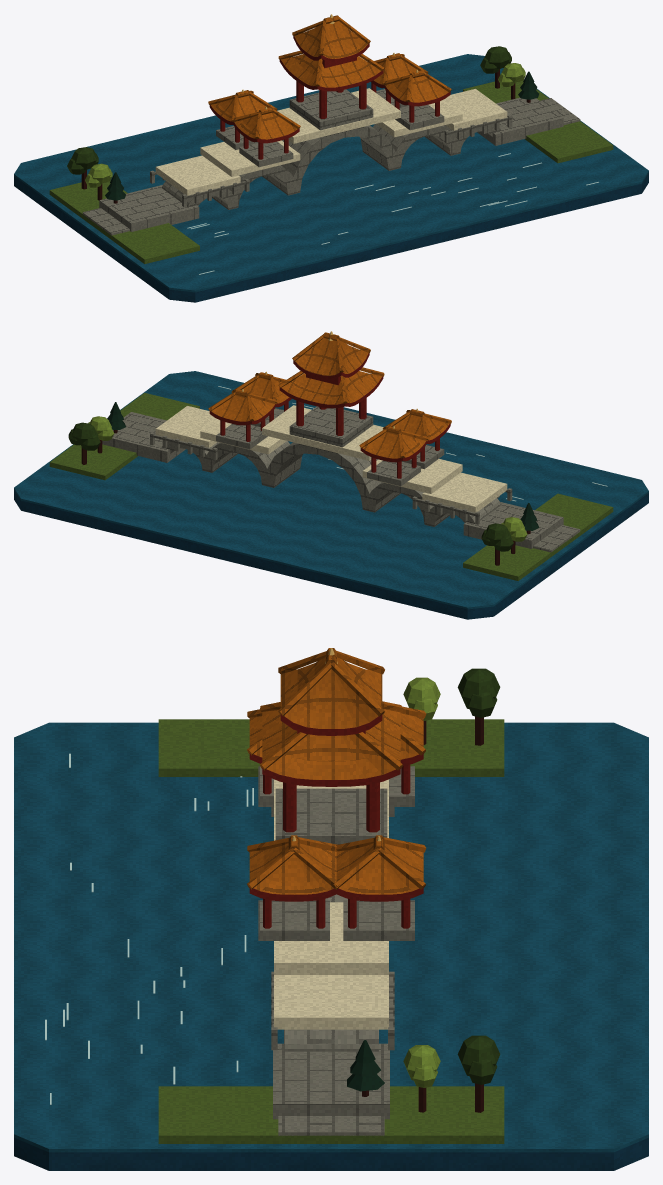
File: slender-west-lake.glb
3 renders of one model, top to bottom at view 1: azimuth 30°, elevation 25°; view 2: azimuth 150°, elevation 25°; view 3: azimuth 270°, elevation 25°, orthographic. The views are drawn at different scales.
Parts seen in each view (by area): view 1: 扬州瘦西湖; view 2: 扬州瘦西湖; view 3: 扬州瘦西湖.
Boxes of the visible parts, x1=… form: 扬州瘦西湖: x1=14, y1=14, x2=648, y2=302; 扬州瘦西湖: x1=14, y1=331, x2=648, y2=619; 扬州瘦西湖: x1=14, y1=648, x2=648, y2=1170.
Size of the model in its own units: 10.8 by 3.65 by 6.8.
Materials: 13 (11 with a texture image).
